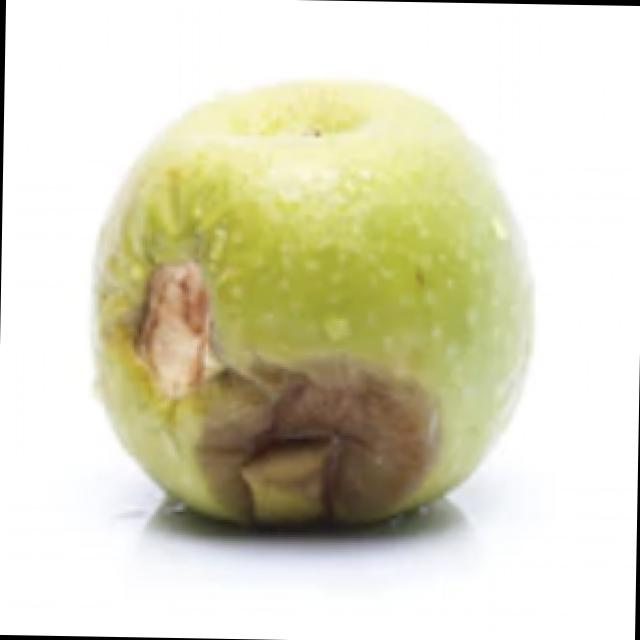rotten_apple: (84, 65, 540, 533)
